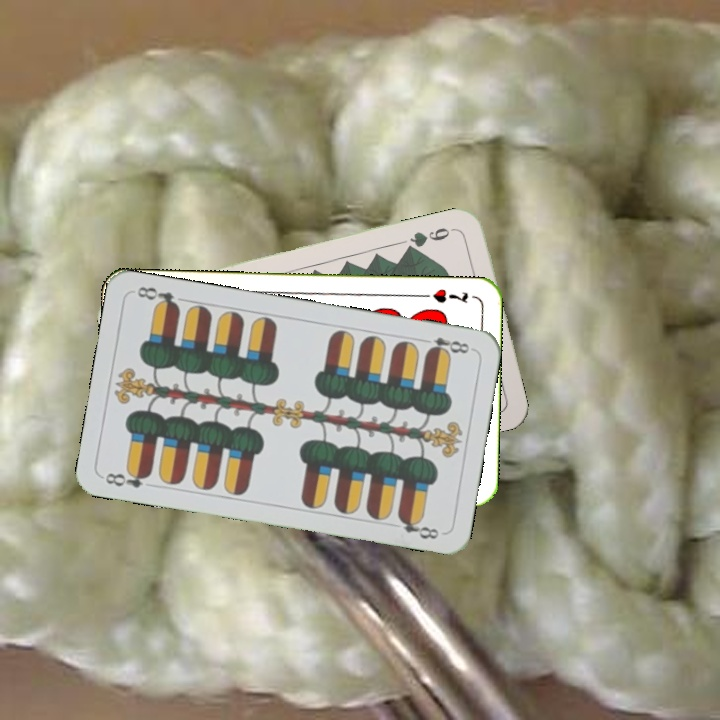E8: (101, 465, 154, 491), (417, 333, 472, 358)
G9: (403, 223, 460, 252)
H7: (417, 284, 471, 306)
